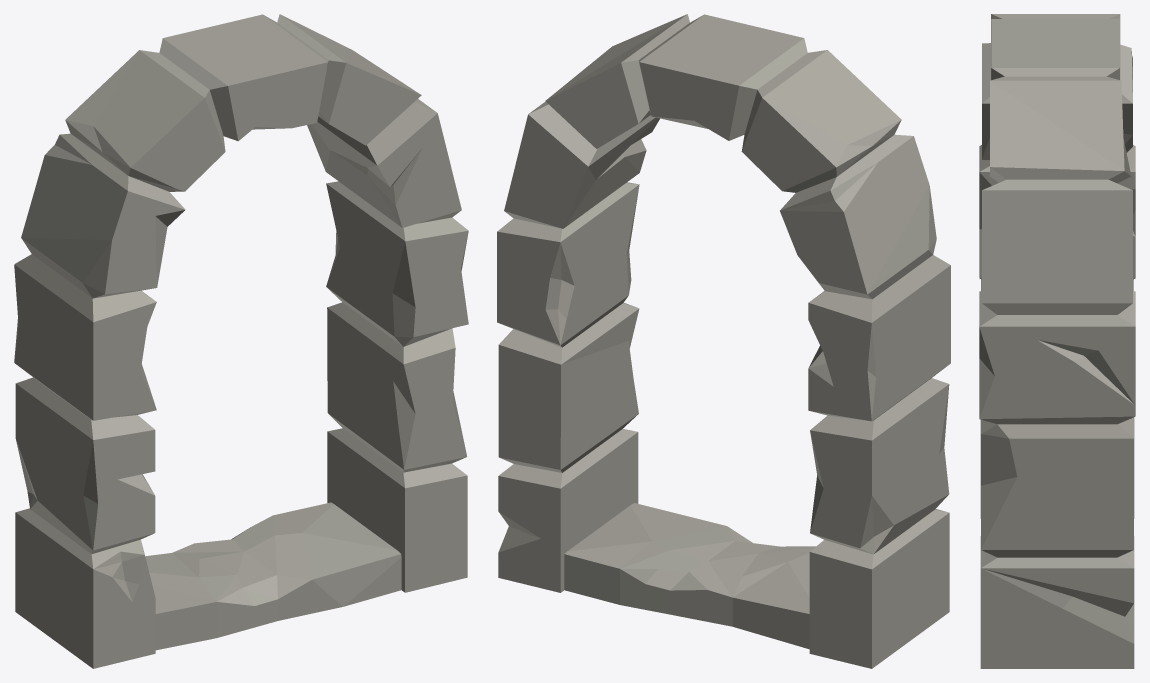
The model's file is rpgpp_ag_door_frame_08.fbx.
The picture shows the model from 3 angles, left to right: view 1: azimuth 30°, elevation 25°; view 2: azimuth 150°, elevation 25°; view 3: azimuth 270°, elevation 25°; orthographic projection.
Visible parts, largest first — view 1: rpgpp_ag_door_frame_08; view 2: rpgpp_ag_door_frame_08; view 3: rpgpp_ag_door_frame_08.
Boxes of the visible parts, left/top/right/bottom form: rpgpp_ag_door_frame_08: left=14, top=14, right=468, bottom=668; rpgpp_ag_door_frame_08: left=497, top=14, right=950, bottom=668; rpgpp_ag_door_frame_08: left=979, top=14, right=1135, bottom=668.
Bounding box in the file's own units: 2.17 × 3 × 0.7917.
